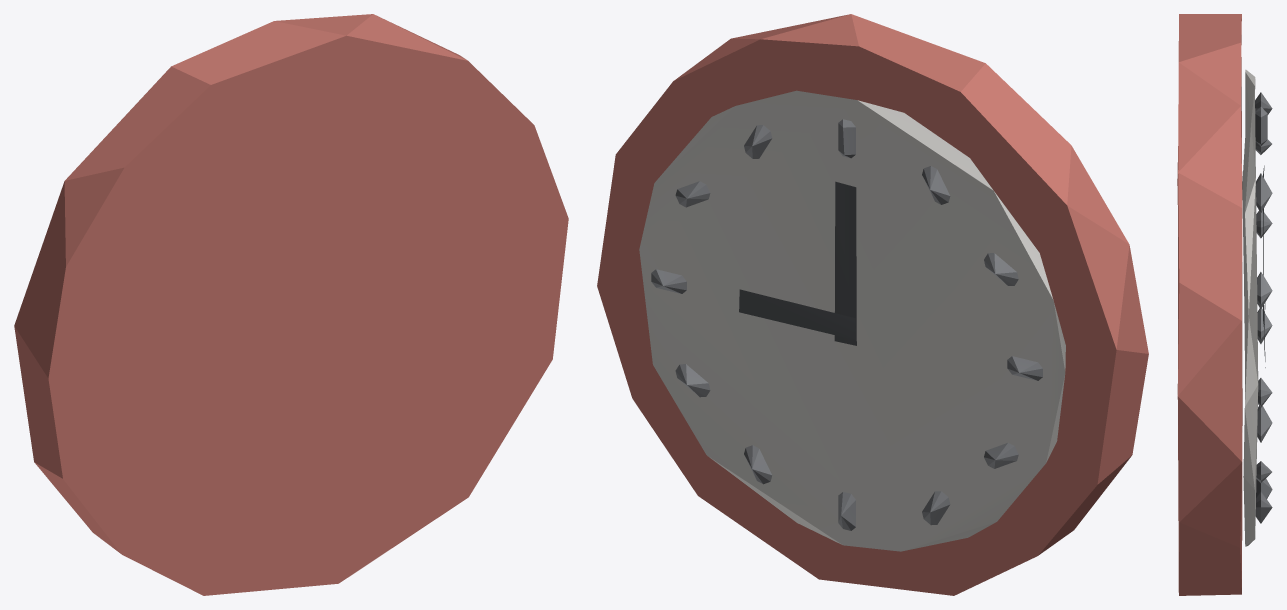
Rendered from furn_wall_clock__red_low.glb.
The picture shows the model from 3 angles, left to right: view 1: azimuth 30°, elevation 25°; view 2: azimuth 150°, elevation 25°; view 3: azimuth 270°, elevation 25°; orthographic projection. The views are drawn at different scales.
Bounding box in the file's own units: 0.4377 × 0.4378 × 0.0713.
